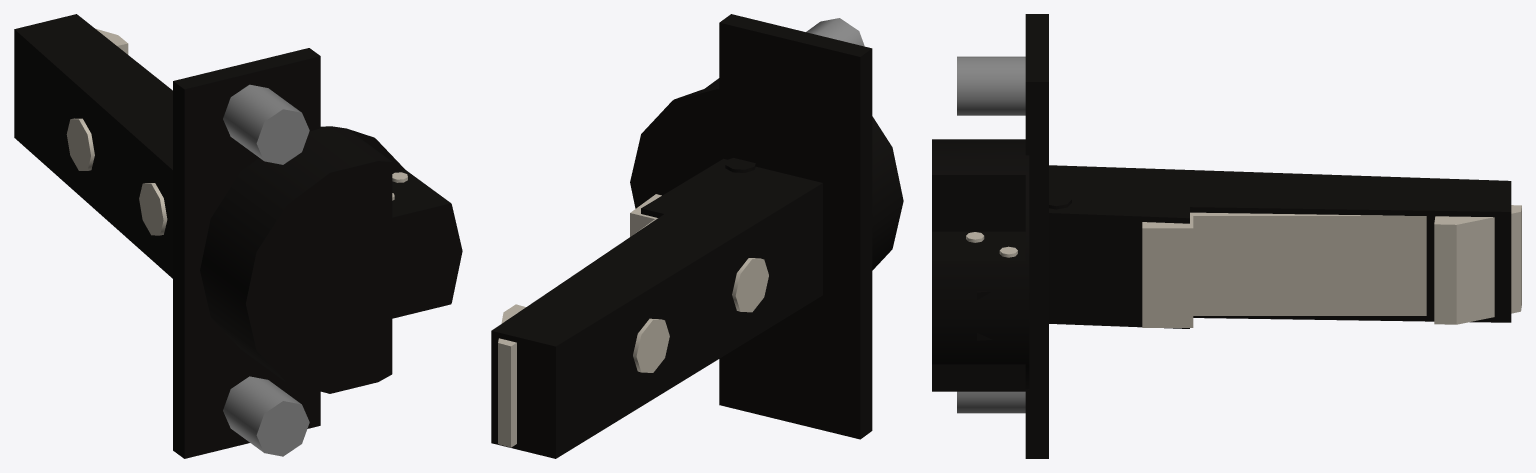
3 views of the same model, side by side, from view 1: azimuth 30°, elevation 25°; view 2: azimuth 150°, elevation 25°; view 3: azimuth 270°, elevation 25° (orthographic). The views are drawn at different scales.
Parts seen in each view (by area): view 1: bau0015089612-2, bau0015088251-1; view 2: bau0015089612-2, bau0015088251-1, bau0019416036-1; view 3: bau0015089612-2, bau0019416036-1, bau0015088251-1.
Boxes of the visible parts, bbox=[...] form: bau0015089612-2: bbox=[173, 48, 462, 458]; bau0015088251-1: bbox=[14, 14, 172, 278]; bau0015089612-2: bbox=[630, 14, 903, 439]; bau0015088251-1: bbox=[491, 158, 822, 458]; bau0019416036-1: bbox=[498, 194, 661, 447]; bau0015089612-2: bbox=[932, 14, 1048, 458]; bau0019416036-1: bbox=[1142, 205, 1521, 327]; bau0015088251-1: bbox=[1049, 165, 1511, 328].
Size of the model in its own units: 37.5 by 57 by 80.78.
